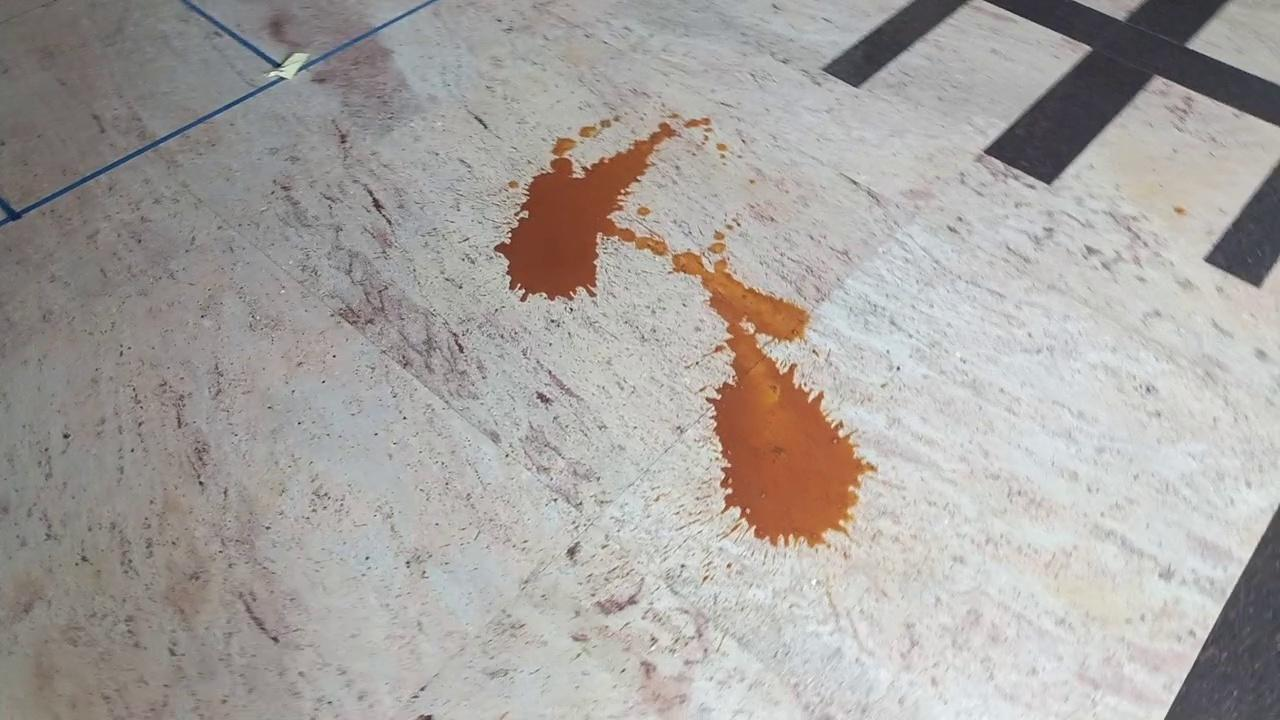dirty_floor: (514, 111, 872, 551)
